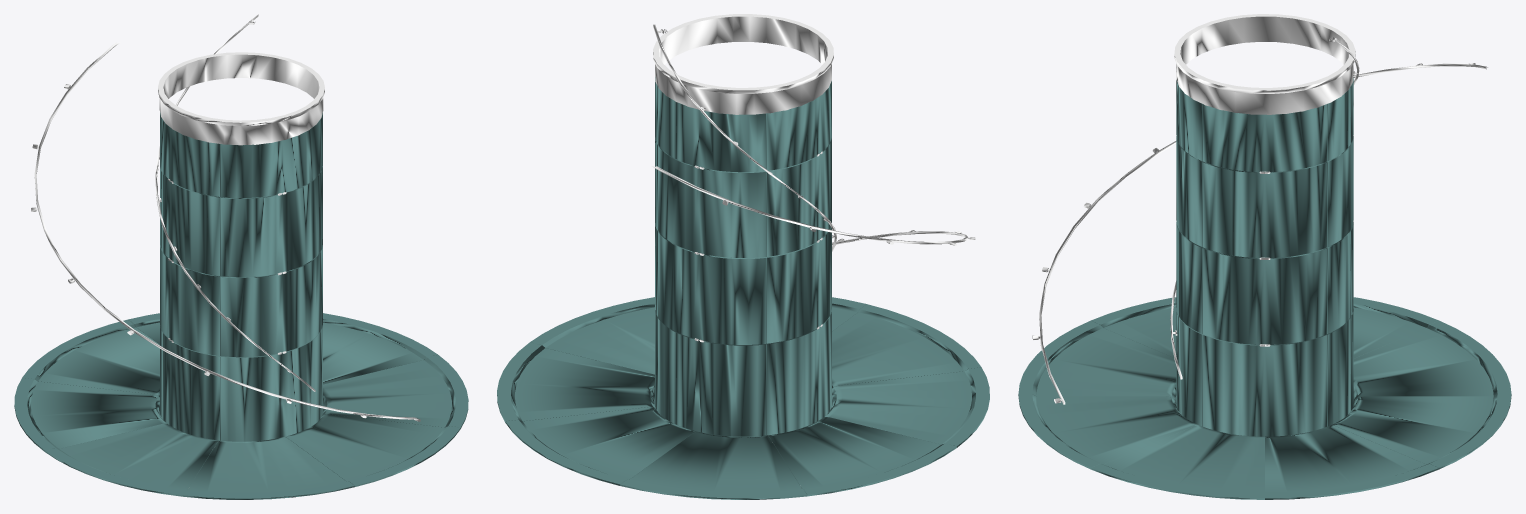
The model's file is fl_stairs_b.glb.
3 renders of one model, left to right at view 1: azimuth 30°, elevation 25°; view 2: azimuth 150°, elevation 25°; view 3: azimuth 270°, elevation 25°, orthographic. The views are drawn at different scales.
Bounding box in the file's own units: 11.63 × 10.51 × 11.63.
